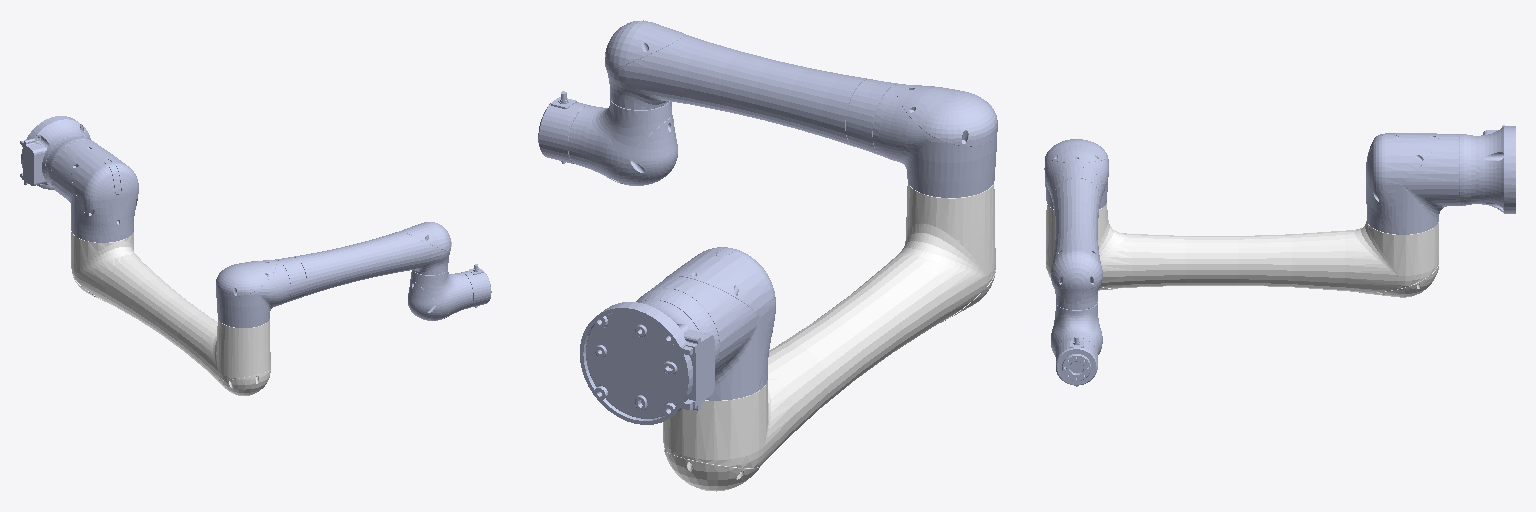
The robot description file, URDF, robot "CRX-10iA_L":
<?xml version="1.0" encoding="utf-8"?>
<!-- This URDF was automatically created by SolidWorks to URDF Exporter! Originally created by [author] ([email redacted]) 
     Commit Version: 1.6.0-4-g7f85cfe  Build Version: 1.6.7995.38578
     For more information, please see http://wiki.ros.org/sw_urdf_exporter -->
<robot
  name="CRX-10iA_L">
  <link
    name="base_link">
    <inertial>
      <origin
        xyz="0 0 0"
        rpy="0 0 0" />
      <mass
        value="40" />
      <inertia
        ixx="19.25"
        ixy="0.22631"
        ixz="-3.4354"
        iyy="20.198"
        iyz="2.4676"
        izz="2.6464" />
    </inertial>
    <visual>
      <origin
        xyz="0 0 0"
        rpy="0 0 0" />
      <geometry>
        <mesh
          filename="package://CRX-10iA_L/meshes/base_link.STL" />
      </geometry>
      <material
        name="">
        <color
          rgba="0.79608 0.82353 0.93725 1" />
      </material>
    </visual>
    <collision>
      <origin
        xyz="0 0 0"
        rpy="0 0 0" />
      <geometry>
        <mesh
          filename="package://CRX-10iA_L/meshes/base_link.STL" />
      </geometry>
    </collision>
  </link>
  <link
    name="Link_1">
    <inertial>
      <origin
        xyz="0 0 0"
        rpy="0 0 0" />
      <mass
        value="40" />
      <inertia
        ixx="19.25"
        ixy="0.22631"
        ixz="-3.4354"
        iyy="20.198"
        iyz="2.4676"
        izz="2.6464" />
    </inertial>
    <visual>
      <origin
        xyz="0 0 0"
        rpy="0 0 0" />
      <geometry>
        <mesh
          filename="package://CRX-10iA_L/meshes/Link_1.STL" />
      </geometry>
      <material
        name="">
        <color
          rgba="0.79608 0.82353 0.93725 1" />
      </material>
    </visual>
    <collision>
      <origin
        xyz="0 0 0"
        rpy="0 0 0" />
      <geometry>
        <mesh
          filename="package://CRX-10iA_L/meshes/Link_1.STL" />
      </geometry>
    </collision>
  </link>
  <joint
    name="Joint_1"
    type="revolute">
    <origin
      xyz="0 -0.1277 0"
      rpy="1.5708 0 0" />
    <parent
      link="base_link" />
    <child
      link="Link_1" />
    <axis
      xyz="0 0 -1" />
    <limit
      lower="0"
      upper="0"
      effort="0"
      velocity="0" />
  </joint>
  <link
    name="Link_2">
    <inertial>
      <origin
        xyz="0 0 0"
        rpy="0 0 0" />
      <mass
        value="40" />
      <inertia
        ixx="19.25"
        ixy="0.22631"
        ixz="-3.4354"
        iyy="20.198"
        iyz="2.4676"
        izz="2.6464" />
    </inertial>
    <visual>
      <origin
        xyz="0 0 0"
        rpy="0 0 0" />
      <geometry>
        <mesh
          filename="package://CRX-10iA_L/meshes/Link_2.STL" />
      </geometry>
      <material
        name="">
        <color
          rgba="1 1 1 1" />
      </material>
    </visual>
    <collision>
      <origin
        xyz="0 0 0"
        rpy="0 0 0" />
      <geometry>
        <mesh
          filename="package://CRX-10iA_L/meshes/Link_2.STL" />
      </geometry>
    </collision>
  </link>
  <joint
    name="Joint_2"
    type="revolute">
    <origin
      xyz="0 0 0.1173"
      rpy="0 0 0" />
    <parent
      link="Link_1" />
    <child
      link="Link_2" />
    <axis
      xyz="0 -1 0" />
    <limit
      lower="0"
      upper="0"
      effort="0"
      velocity="0" />
  </joint>
  <link
    name="Link_3">
    <inertial>
      <origin
        xyz="0 0 0"
        rpy="0 0 0" />
      <mass
        value="40" />
      <inertia
        ixx="19.25"
        ixy="0.22631"
        ixz="-3.4354"
        iyy="20.198"
        iyz="2.4676"
        izz="2.6464" />
    </inertial>
    <visual>
      <origin
        xyz="0 0 0"
        rpy="0 0 0" />
      <geometry>
        <mesh
          filename="package://CRX-10iA_L/meshes/Link_3.STL" />
      </geometry>
      <material
        name="">
        <color
          rgba="0.79608 0.82353 0.93725 1" />
      </material>
    </visual>
    <collision>
      <origin
        xyz="0 0 0"
        rpy="0 0 0" />
      <geometry>
        <mesh
          filename="package://CRX-10iA_L/meshes/Link_3.STL" />
      </geometry>
    </collision>
  </link>
  <joint
    name="Joint_3"
    type="revolute">
    <origin
      xyz="0 0 0.71"
      rpy="0 0 0" />
    <parent
      link="Link_2" />
    <child
      link="Link_3" />
    <axis
      xyz="0 -1 0" />
    <limit
      lower="0"
      upper="0"
      effort="0"
      velocity="0" />
  </joint>
  <link
    name="Link_4">
    <inertial>
      <origin
        xyz="0 0 0"
        rpy="0 0 0" />
      <mass
        value="40" />
      <inertia
        ixx="19.25"
        ixy="0.22631"
        ixz="-3.4354"
        iyy="20.198"
        iyz="2.4676"
        izz="2.6464" />
    </inertial>
    <visual>
      <origin
        xyz="0 0 0"
        rpy="0 0 0" />
      <geometry>
        <mesh
          filename="package://CRX-10iA_L/meshes/Link_4.STL" />
      </geometry>
      <material
        name="">
        <color
          rgba="0.79608 0.82353 0.93725 1" />
      </material>
    </visual>
    <collision>
      <origin
        xyz="0 0 0"
        rpy="0 0 0" />
      <geometry>
        <mesh
          filename="package://CRX-10iA_L/meshes/Link_4.STL" />
      </geometry>
    </collision>
  </link>
  <joint
    name="Joint_4"
    type="revolute">
    <origin
      xyz="0.54 0 0"
      rpy="0 0 0" />
    <parent
      link="Link_3" />
    <child
      link="Link_4" />
    <axis
      xyz="-1 0 0" />
    <limit
      lower="0"
      upper="0"
      effort="0"
      velocity="0" />
  </joint>
  <link
    name="Link_5">
    <inertial>
      <origin
        xyz="0 0 0"
        rpy="0 0 0" />
      <mass
        value="40" />
      <inertia
        ixx="19.25"
        ixy="0.22631"
        ixz="-3.4354"
        iyy="20.198"
        iyz="2.4676"
        izz="2.6464" />
    </inertial>
    <visual>
      <origin
        xyz="0 0 0"
        rpy="0 0 0" />
      <geometry>
        <mesh
          filename="package://CRX-10iA_L/meshes/Link_5.STL" />
      </geometry>
      <material
        name="">
        <color
          rgba="0.79608 0.82353 0.93725 1" />
      </material>
    </visual>
    <collision>
      <origin
        xyz="0 0 0"
        rpy="0 0 0" />
      <geometry>
        <mesh
          filename="package://CRX-10iA_L/meshes/Link_5.STL" />
      </geometry>
    </collision>
  </link>
  <joint
    name="Joint_5"
    type="revolute">
    <origin
      xyz="0 -0.15 0"
      rpy="0 0 0" />
    <parent
      link="Link_4" />
    <child
      link="Link_5" />
    <axis
      xyz="0 -1 0" />
    <limit
      lower="0"
      upper="0"
      effort="0"
      velocity="0" />
  </joint>
  <link
    name="Link_6">
    <inertial>
      <origin
        xyz="0 0 0"
        rpy="0 0 0" />
      <mass
        value="40" />
      <inertia
        ixx="19.25"
        ixy="0.22631"
        ixz="-3.4354"
        iyy="20.198"
        iyz="2.4676"
        izz="2.6464" />
    </inertial>
    <visual>
      <origin
        xyz="0 0 0"
        rpy="0 0 0" />
      <geometry>
        <mesh
          filename="package://CRX-10iA_L/meshes/Link_6.STL" />
      </geometry>
      <material
        name="">
        <color
          rgba="0.79216 0.81961 0.93333 1" />
      </material>
    </visual>
    <collision>
      <origin
        xyz="0 0 0"
        rpy="0 0 0" />
      <geometry>
        <mesh
          filename="package://CRX-10iA_L/meshes/Link_6.STL" />
      </geometry>
    </collision>
  </link>
  <joint
    name="Joint_6"
    type="fixed">
    <origin
      xyz="0.16 0 0"
      rpy="0 0 0" />
    <parent
      link="Link_5" />
    <child
      link="Link_6" />
    <axis
      xyz="-1 0 0" />
  </joint>
</robot>

--- Facts derived from the render (not from the file) ---
Views: 3 orthographic renders of the robot side by side, from view 1: azimuth 30°, elevation 25°; view 2: azimuth 150°, elevation 25°; view 3: azimuth 270°, elevation 25°.
Model CRX-10iA_L with 7 links and 6 joints (5 revolute, 1 fixed), rooted at base_link, posed every joint at zero.
Links seen in each view (by area): view 1: Link_2, Link_1, Link_4, Link_3, Link_5, base_link, Link_6; view 2: Link_2, Link_4, Link_3, base_link, Link_1, Link_5, Link_6; view 3: Link_2, Link_1, Link_4, base_link, Link_3, Link_6, Link_5.
Link boxes in pixels (box(x1,y1,x2,y2)): Link_2: box(71, 231, 270, 395); Link_1: box(45, 136, 138, 242); Link_4: box(294, 222, 451, 295); Link_3: box(216, 257, 306, 327); Link_5: box(408, 270, 472, 320); base_link: box(20, 116, 90, 189); Link_6: box(461, 264, 491, 307); Link_2: box(663, 183, 995, 491); Link_4: box(605, 20, 866, 146); Link_3: box(846, 79, 997, 197); base_link: box(580, 300, 714, 424); Link_1: box(636, 247, 775, 400); Link_5: box(568, 99, 677, 185); Link_6: box(538, 91, 587, 163); Link_2: box(1046, 203, 1438, 297); Link_1: box(1366, 133, 1475, 234); Link_4: box(1051, 178, 1102, 309); base_link: box(1476, 125, 1515, 213); Link_3: box(1044, 139, 1108, 208); Link_6: box(1056, 336, 1097, 386); Link_5: box(1051, 302, 1102, 356).
Size in the robot's own frame: 0.7988 by 1.03 by 0.3934 metres.
7 mesh visuals loaded from 7 distinct referenced files (7 binary STL).